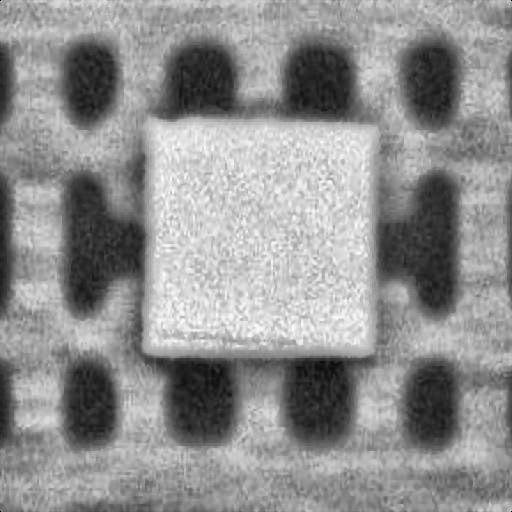DIE_CRACK: (233, 221, 438, 227)
